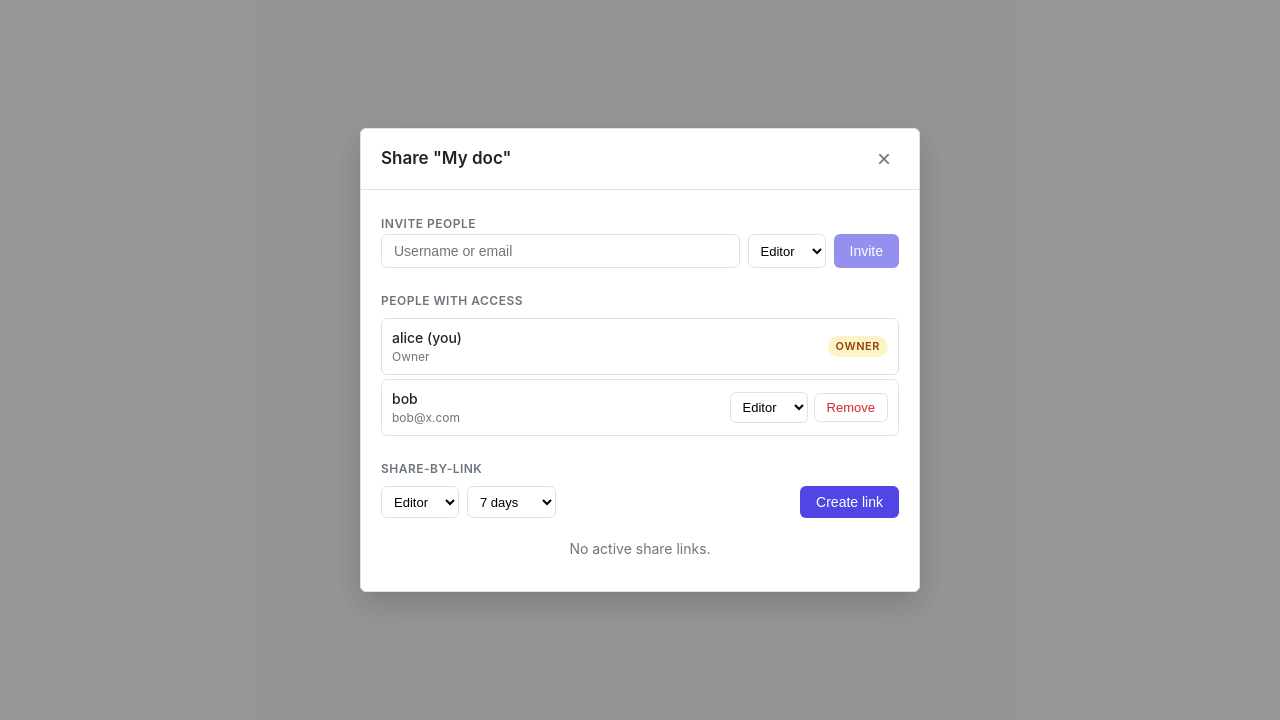
Test: ShareModal › surfaces an error message if the invite fails
Type "ghost" into the field with placeholder "Username or email".
click(560, 251); type("ghost")  # box [381,234,740,268]
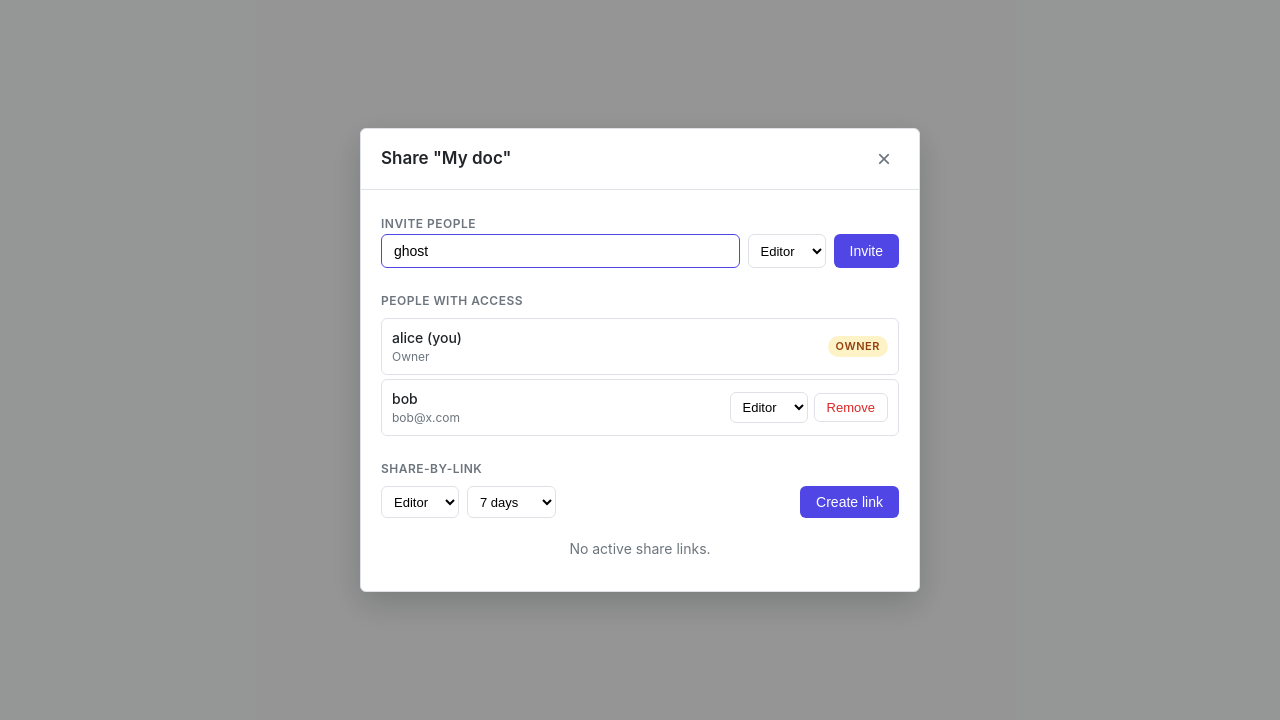
Click the button "Invite".
click(866, 251)  # box [834,234,899,268]
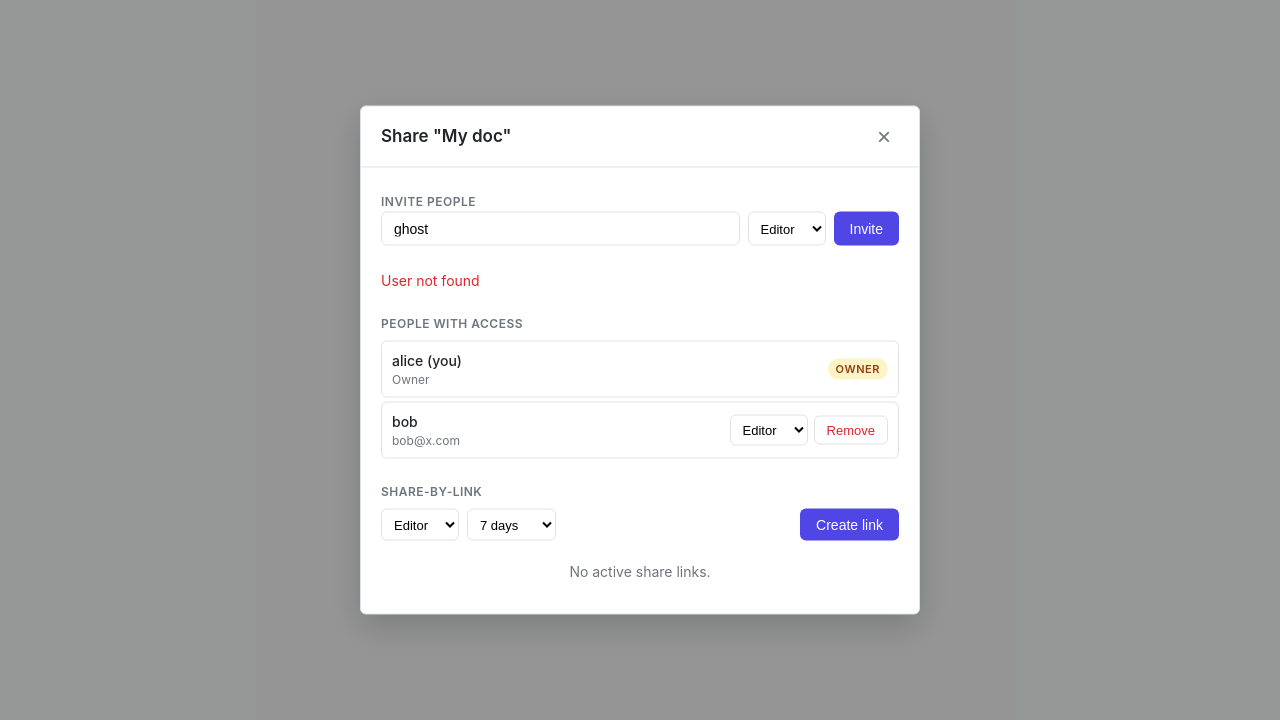
Now the message reads "User not found", box [381,272,480,288]
